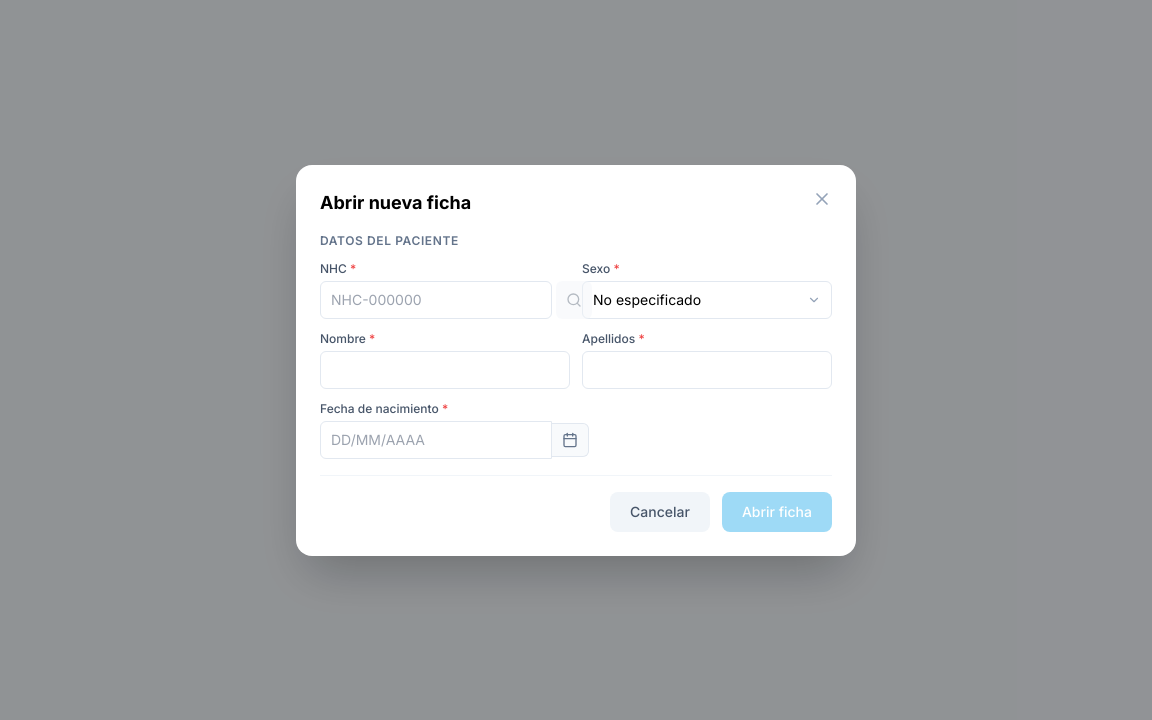
NewPatientModal — Admin mode › [KAN-100] shows "not found" message after NHC search
The width and height of the screenshot is (1152, 720).
Type "NHC-999" into the field with placeholder "NHC-000000" at (436, 300), box [320, 280, 552, 318]
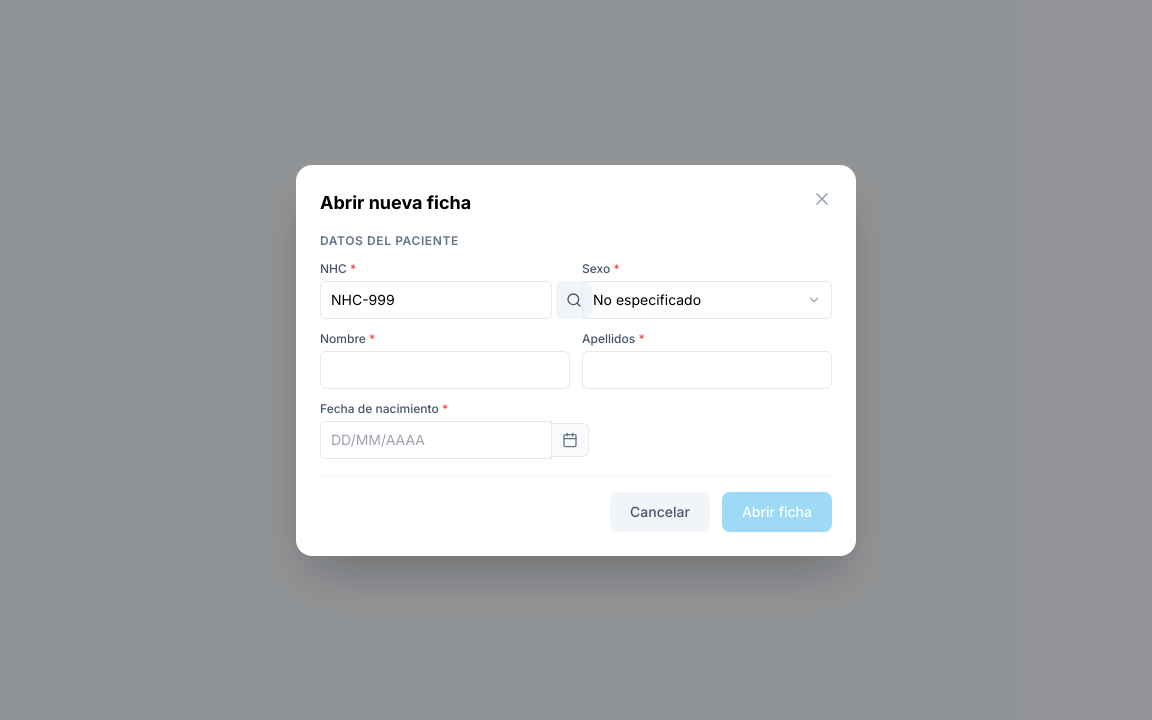
Click the button titled "Buscar paciente por NHC" at (574, 300), box [556, 280, 592, 318]
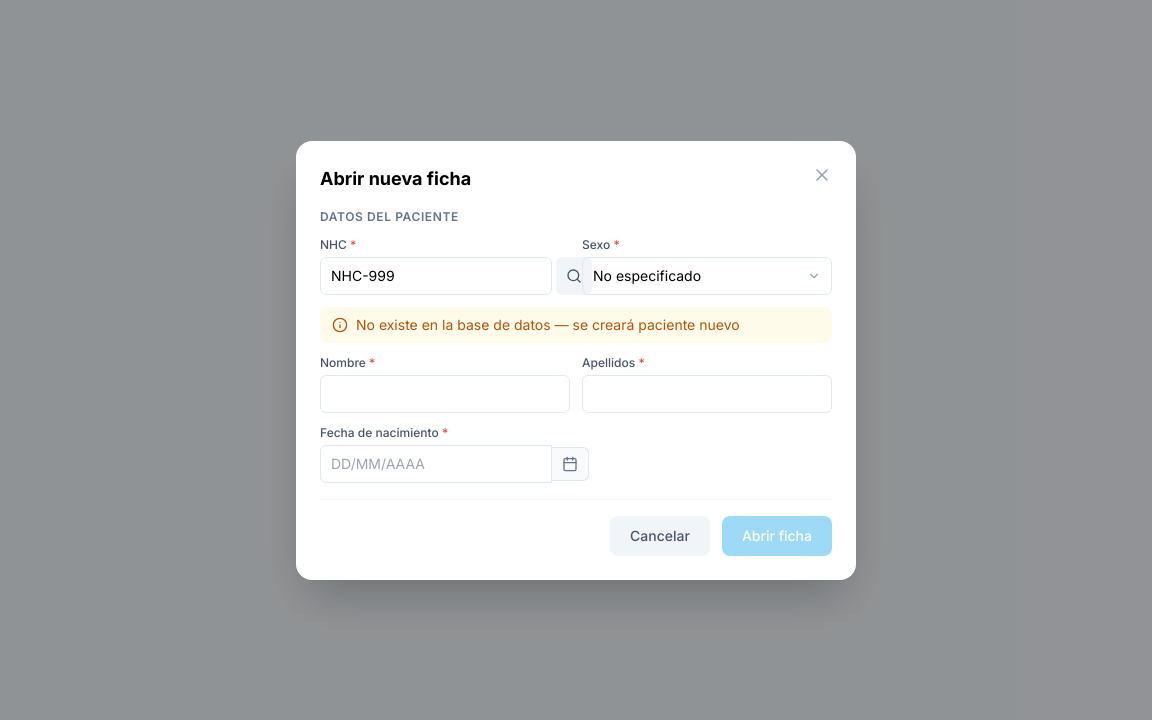
Check: the text "No existe en la base de datos — se creará paciente nuevo" is shown, box [320, 306, 832, 342]
